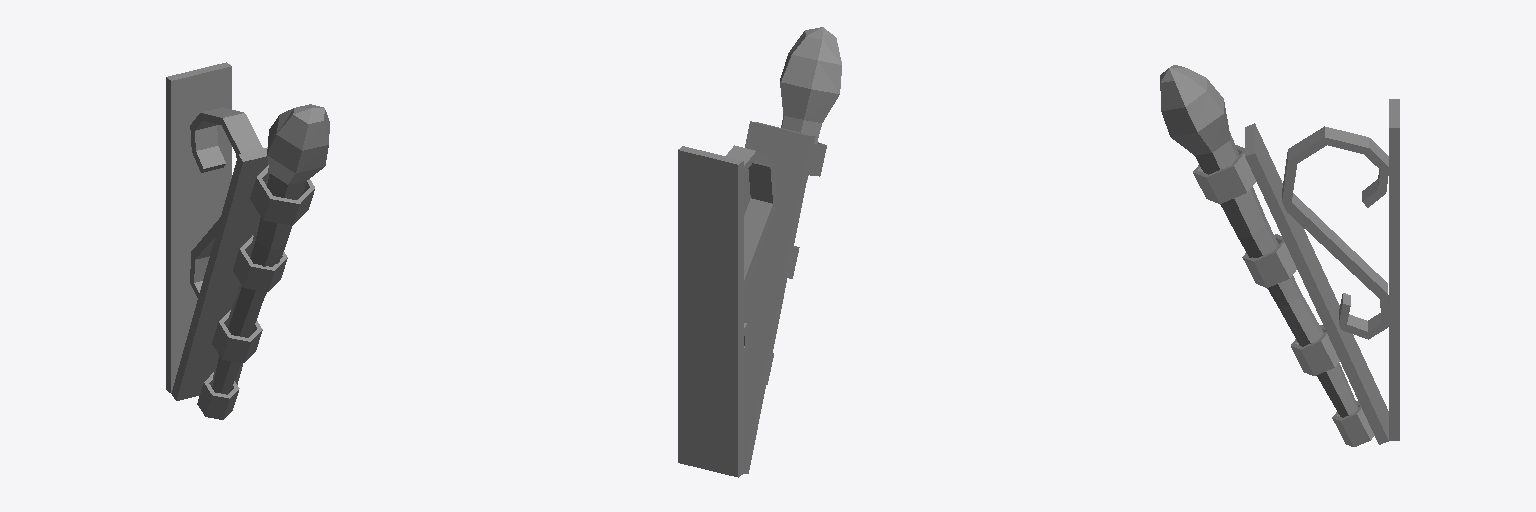
Rendered from wall_torch.obj.
3 views of the same model, side by side, from view 1: azimuth 30°, elevation 25°; view 2: azimuth 150°, elevation 25°; view 3: azimuth 270°, elevation 25° (orthographic).
Visible parts, largest first — view 1: Box001, Cone001, Box002, Line001, Tube002, Tube003, Tube004, Tube001; view 2: Box001, Box002, Cone001, Line001; view 3: Cone001, Box002, Line001, Box001, Tube002, Tube003, Tube004, Tube001.
Boxes of the visible parts, x1=… form: Box001: x1=166, y1=62, x2=231, y2=392; Cone001: x1=211, y1=104, x2=329, y2=394; Box002: x1=171, y1=147, x2=267, y2=400; Line001: x1=190, y1=107, x2=262, y2=297; Tube002: x1=250, y1=165, x2=314, y2=225; Tube003: x1=233, y1=235, x2=287, y2=291; Tube004: x1=212, y1=310, x2=262, y2=362; Tube001: x1=197, y1=372, x2=239, y2=419; Box001: x1=678, y1=146, x2=743, y2=477; Box002: x1=744, y1=121, x2=815, y2=473; Cone001: x1=780, y1=27, x2=841, y2=179; Line001: x1=726, y1=145, x2=777, y2=354; Cone001: x1=1160, y1=65, x2=1358, y2=417; Box002: x1=1245, y1=123, x2=1388, y2=444; Line001: x1=1282, y1=126, x2=1388, y2=339; Box001: x1=1389, y1=99, x2=1399, y2=440; Tube002: x1=1193, y1=145, x2=1256, y2=203; Tube003: x1=1242, y1=234, x2=1296, y2=287; Tube004: x1=1291, y1=325, x2=1339, y2=375; Tube001: x1=1332, y1=401, x2=1374, y2=446.
Bounding box in the file's own units: 65.36 × 385 × 222.